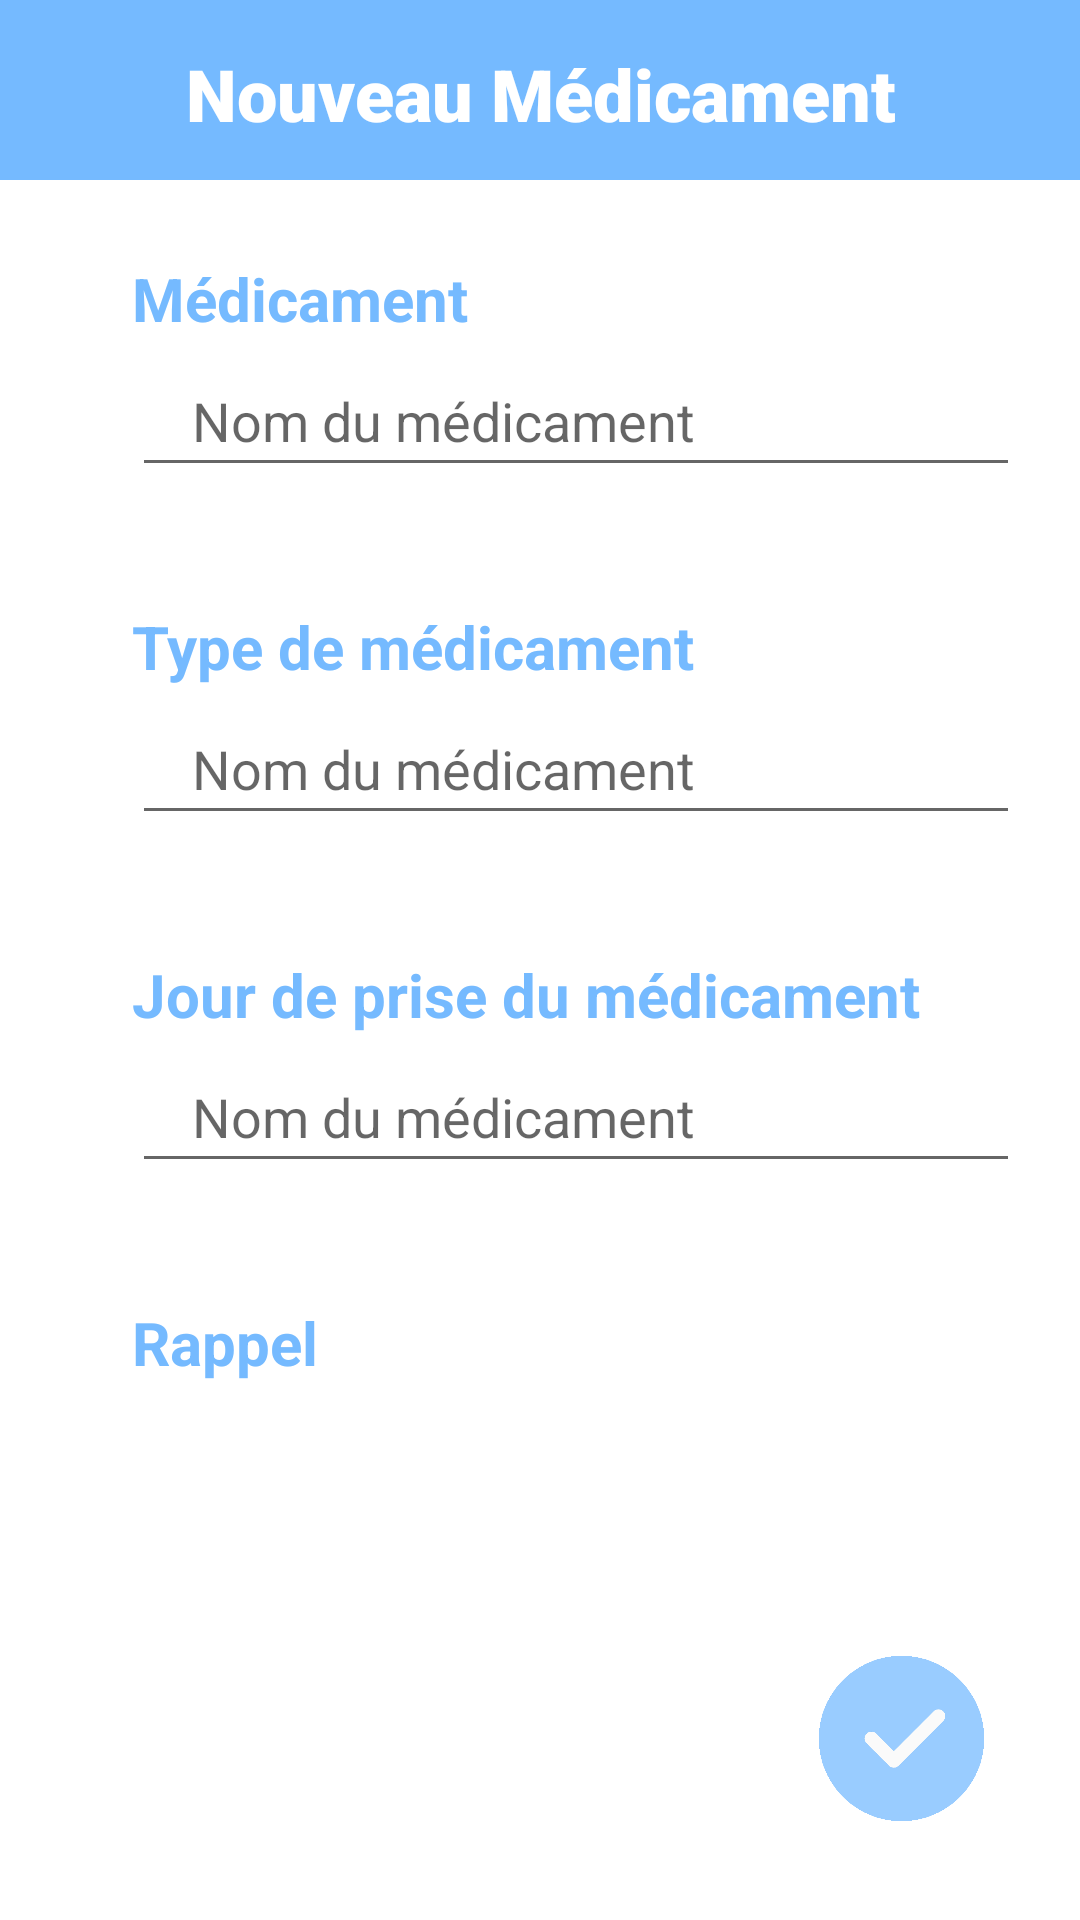

Locate icon controls on the screen. Image size 1080w x 1920h, boxes as (x1, y1, x2, y2).
add done: (819, 1656, 984, 1821)
